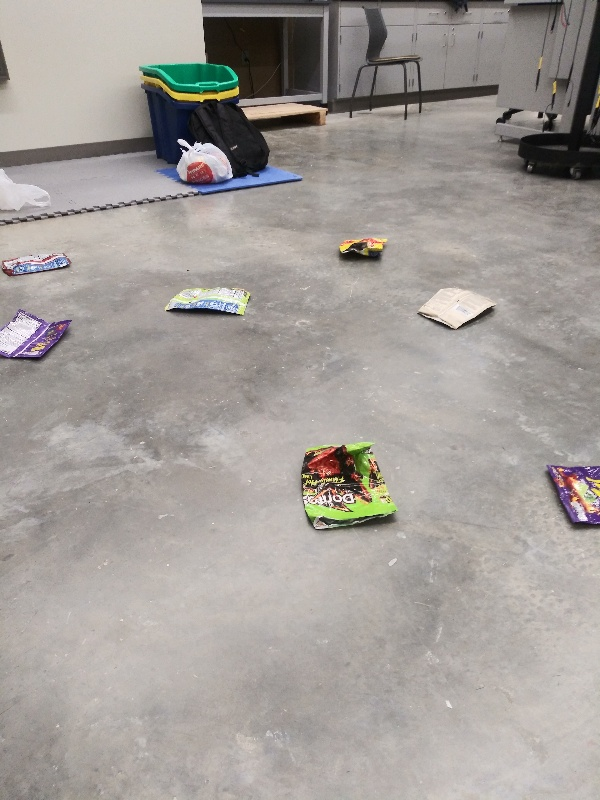bag: (296, 439, 404, 534), (1, 308, 79, 363), (543, 459, 600, 534), (415, 286, 500, 330), (160, 282, 255, 320), (4, 248, 76, 279), (332, 234, 393, 263)
